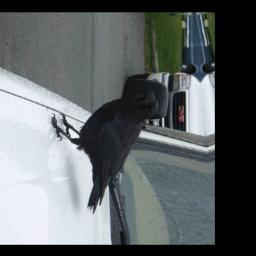Crow: (47, 90, 169, 215)
